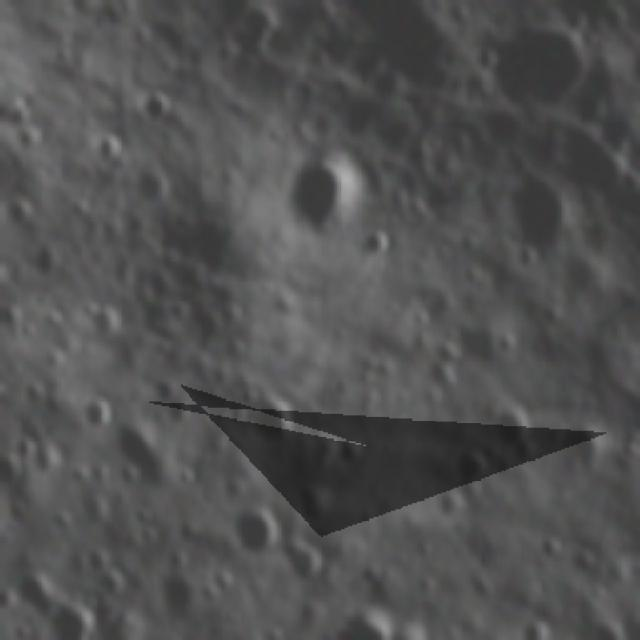crater: (480, 14, 602, 114), (283, 148, 380, 245), (496, 167, 576, 256), (111, 412, 178, 494), (238, 385, 304, 450), (419, 327, 472, 402), (279, 533, 341, 595), (550, 242, 610, 304), (552, 414, 610, 471), (143, 567, 205, 618), (230, 504, 284, 556), (482, 404, 540, 448), (143, 364, 191, 413), (328, 603, 390, 640), (74, 384, 120, 433), (366, 60, 412, 109), (130, 87, 184, 128), (86, 298, 131, 344), (132, 158, 172, 208), (448, 443, 492, 486), (296, 483, 341, 523), (29, 240, 65, 282), (363, 226, 395, 268), (4, 199, 33, 230), (518, 620, 558, 640)
